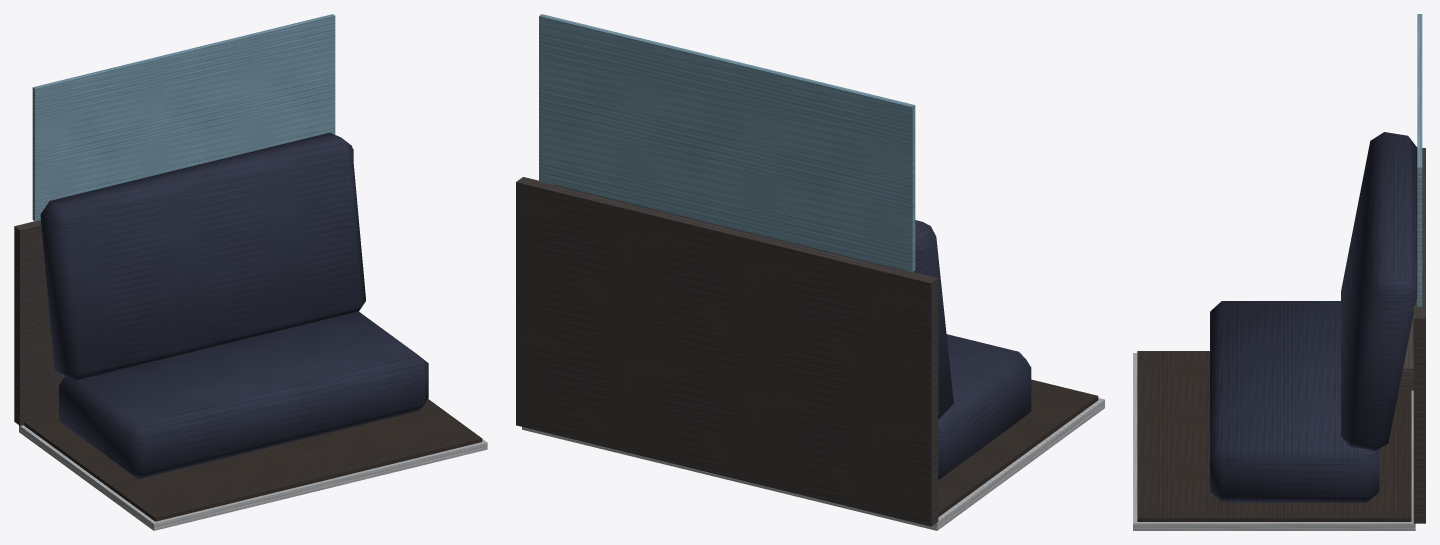
File: reducao_peso_fabrica.glb
The picture shows the model from 3 angles, left to right: view 1: azimuth 30°, elevation 25°; view 2: azimuth 150°, elevation 25°; view 3: azimuth 270°, elevation 25°; orthographic projection. The views are drawn at different scales.
Parts seen in each view (by area): view 1: reducao_peso_fabrica; view 2: reducao_peso_fabrica; view 3: reducao_peso_fabrica.
Boxes of the visible parts, x1,y1,x2,y2 form: reducao_peso_fabrica: [14, 14, 487, 530]; reducao_peso_fabrica: [516, 14, 1104, 530]; reducao_peso_fabrica: [1133, 14, 1425, 530].
Size of the model in its own units: 1 by 0.97 by 0.725.
2 materials, 2 textured.
